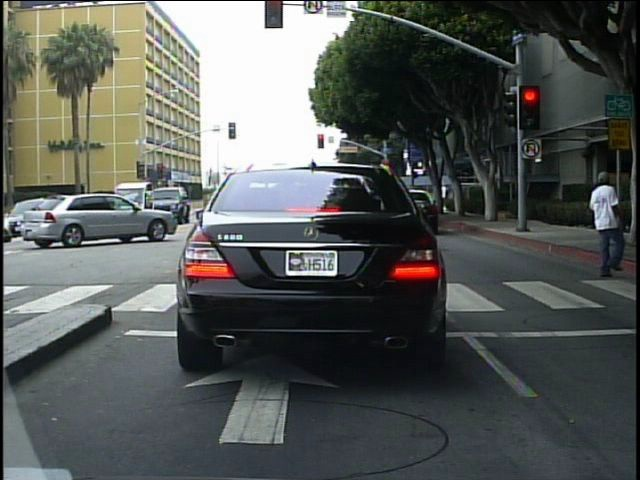person: (585, 167, 625, 278), (634, 166, 639, 294), (438, 180, 452, 212)
